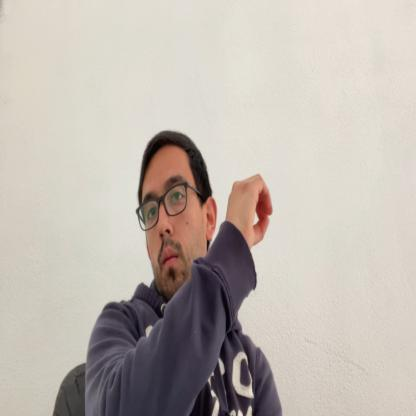O: (226, 172, 274, 252)
